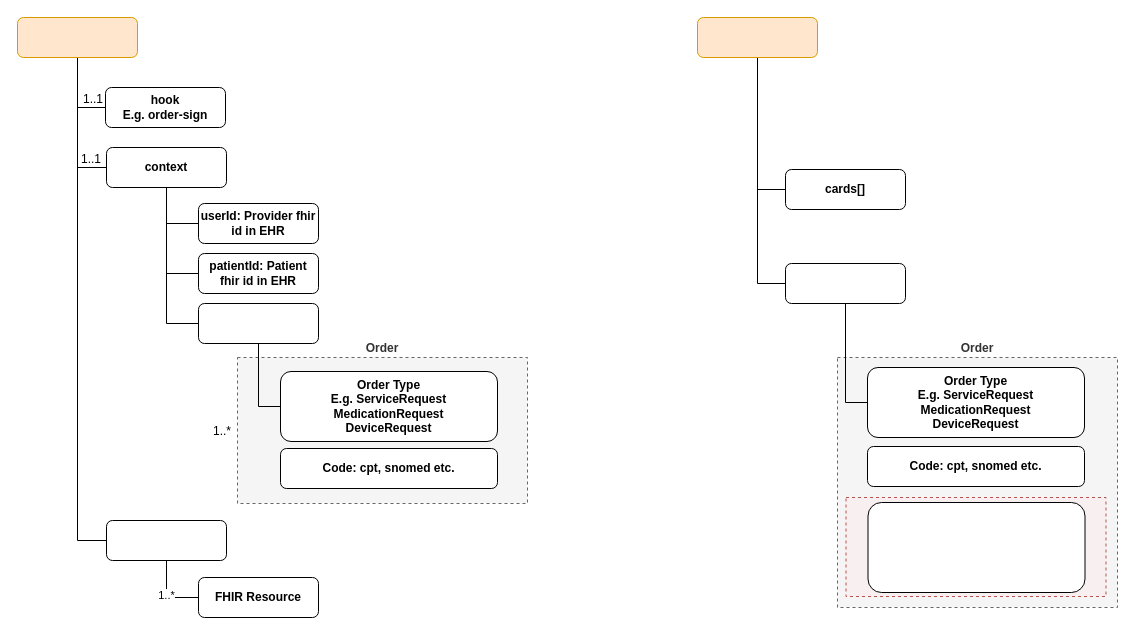
The diagram is 1135 pixels wide and 635 high, and some of its shapes have lost their labels. The centre of each missing label's shape, as x and y in pixels:
"Coverage Information Extension covered? pa-needed? doc-needed? questionnaire" goes at [976,547].
"CRD Request" goes at [77,37].
"CRD Response" goes at [757,37].
"draftOrders" goes at [258,323].
"prefetch" goes at [166,540].
"systemActions[]" goes at [845,283].
